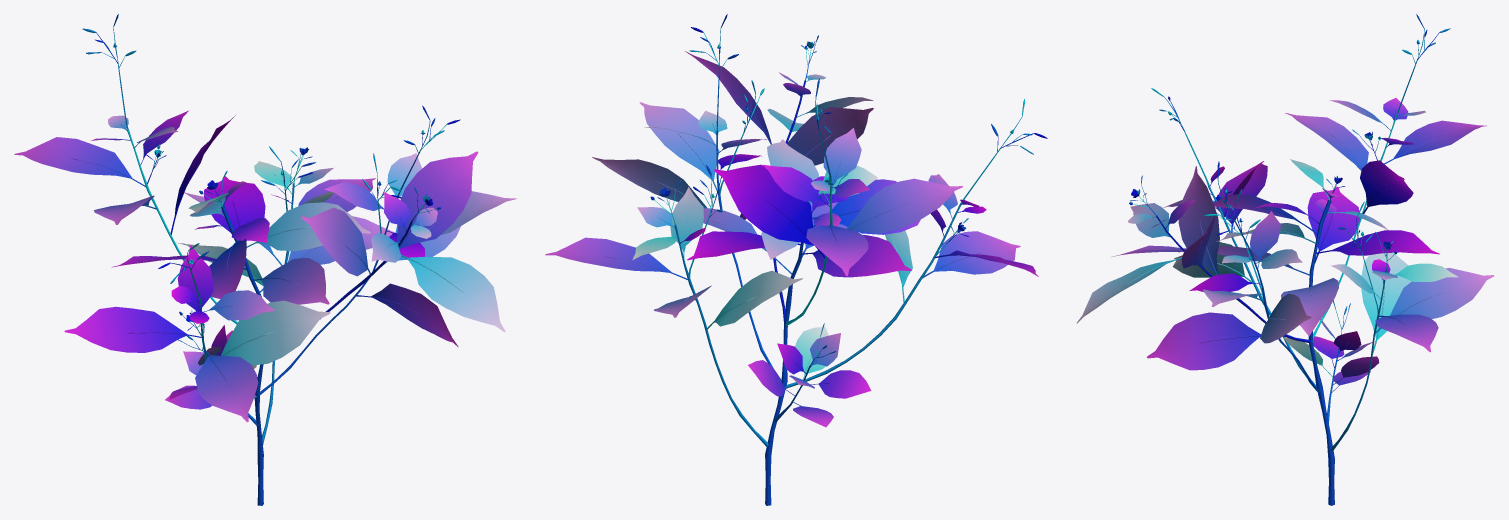
Rendered from xefmcgrqx_VarD_LOD0.fbx.
3 renders of one model, left to right at view 1: azimuth 30°, elevation 25°; view 2: azimuth 150°, elevation 25°; view 3: azimuth 270°, elevation 25°, orthographic. The views are drawn at different scales.
Parts seen in each view (by area): view 1: _x4mv_VarD_LOD1; view 2: _x4mv_VarD_LOD1; view 3: _x4mv_VarD_LOD1.
Part boxes in pixels (x1=…): _x4mv_VarD_LOD1: x1=14, y1=14, x2=516, y2=505; _x4mv_VarD_LOD1: x1=545, y1=14, x2=1047, y2=505; _x4mv_VarD_LOD1: x1=1076, y1=14, x2=1494, y2=505.
Bounding box in the file's own units: 58.09 × 62.85 × 53.33.
